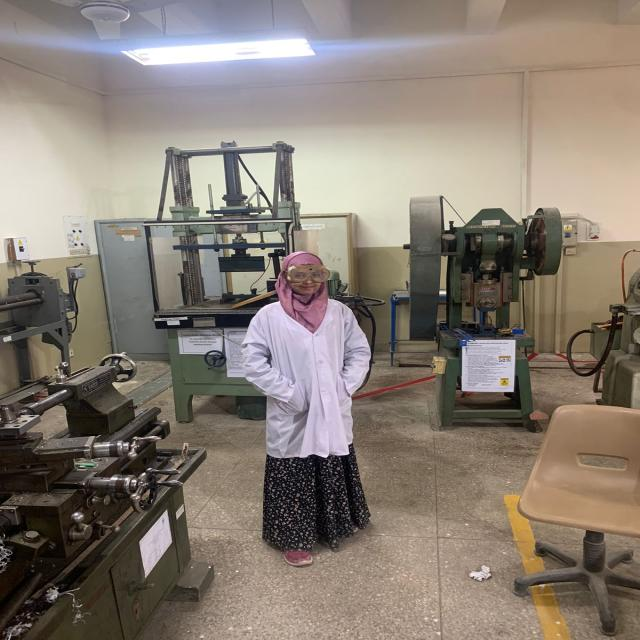googles: (288, 265, 330, 283)
labcoat: (239, 299, 373, 459)
